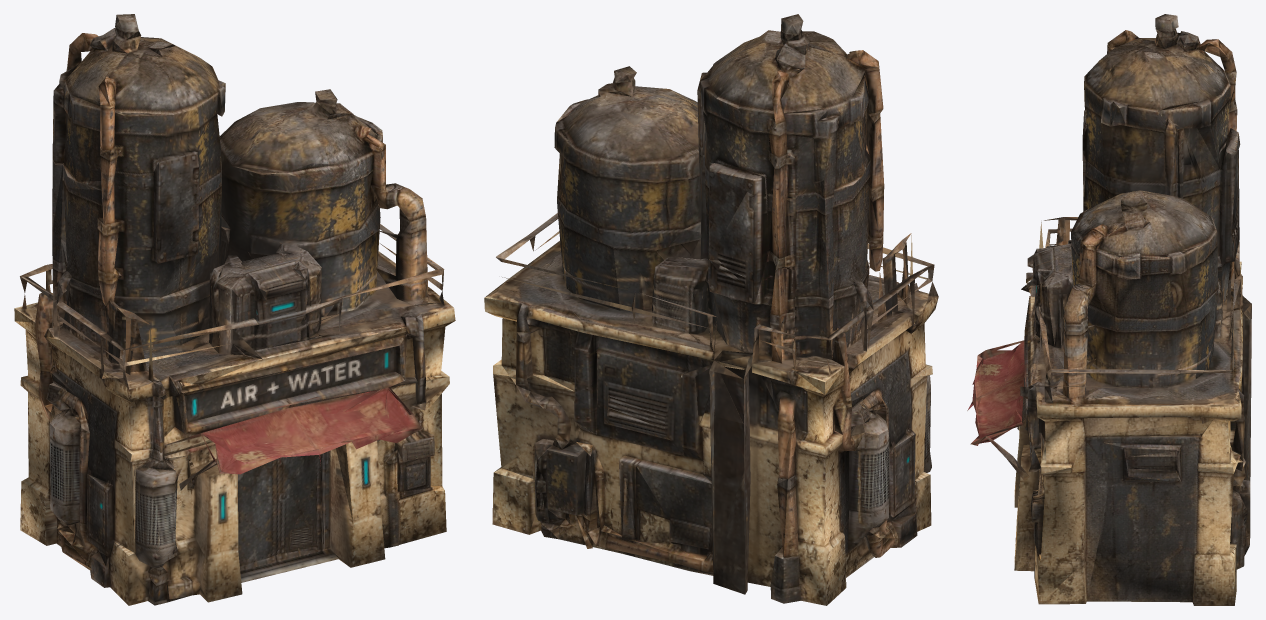
Rendered from water.fbx.
The picture shows the model from 3 angles, left to right: view 1: azimuth 30°, elevation 25°; view 2: azimuth 150°, elevation 25°; view 3: azimuth 270°, elevation 25°; orthographic projection. The views are drawn at different scales.
Visible parts, largest first — view 1: Mesh_0; view 2: Mesh_0; view 3: Mesh_0.
Part boxes in pixels (<box>): Mesh_0: <box>14,14,455,605</box>; Mesh_0: <box>484,14,938,605</box>; Mesh_0: <box>967,14,1251,605</box>.
Size of the model in its own units: 130 by 190 by 103.
1 material, 1 textured.
